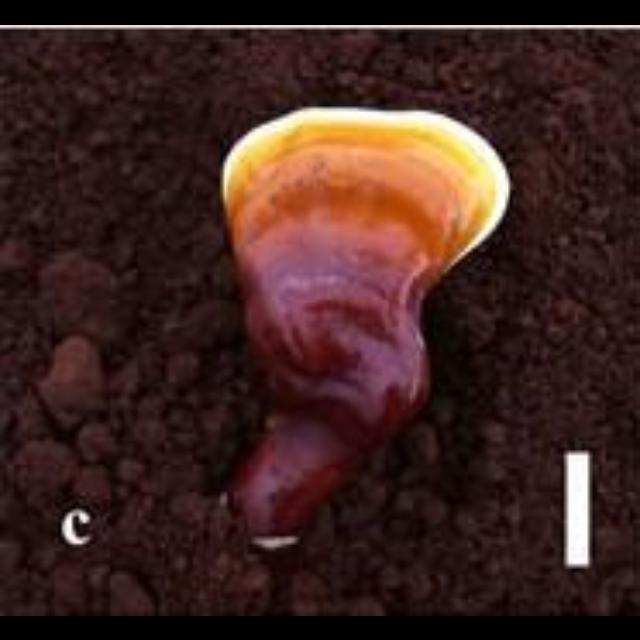ganoderma: (218, 105, 517, 304)
